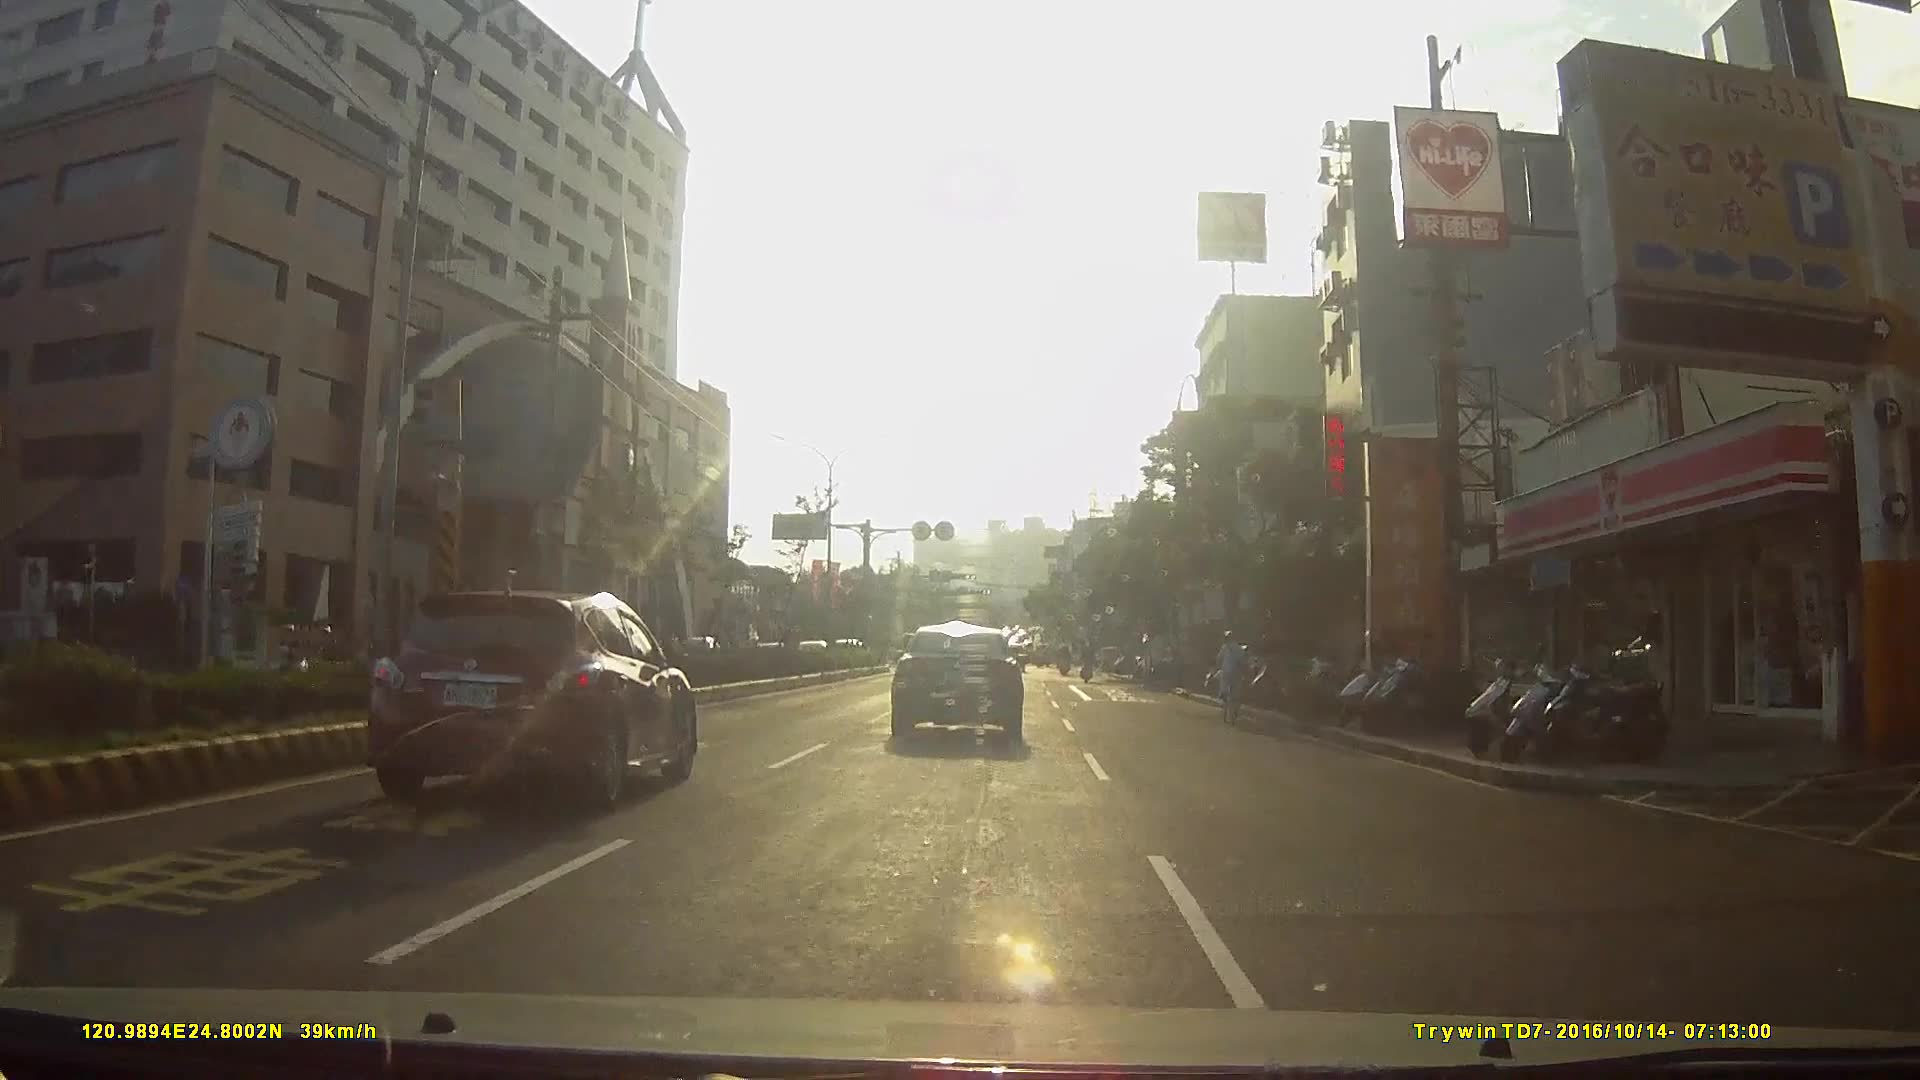rider: (1214, 631, 1253, 722), (270, 625, 312, 691)
vehicle: (356, 570, 715, 806), (888, 615, 1039, 748), (1136, 626, 1195, 684), (763, 607, 822, 662)
